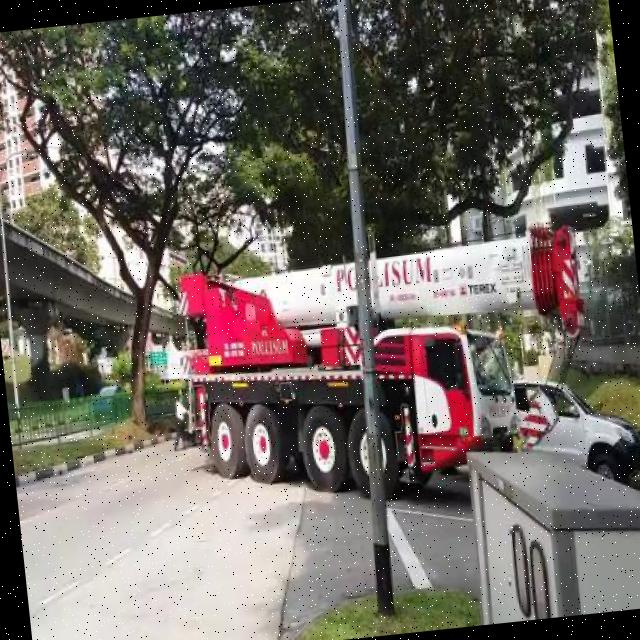Mobile Crane: (176, 229, 598, 517)
